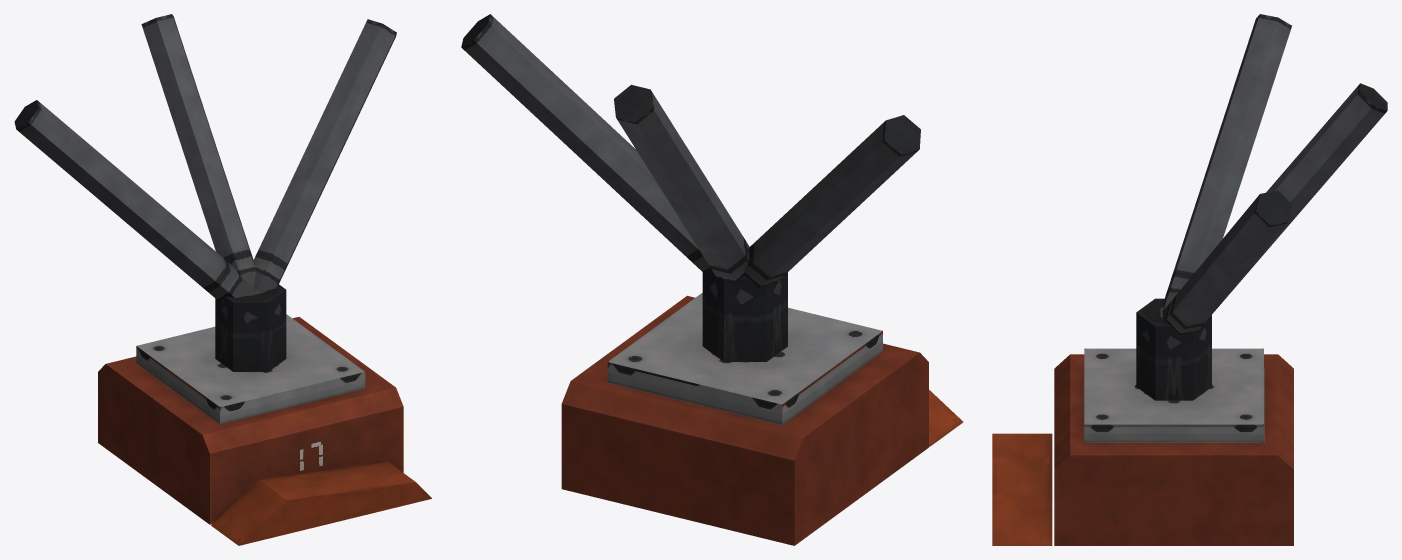
The model's file is dome_strut_anchor.glb.
The picture shows the model from 3 angles, left to right: view 1: azimuth 30°, elevation 25°; view 2: azimuth 150°, elevation 25°; view 3: azimuth 270°, elevation 25°; orthographic projection. The views are drawn at different scales.
Visible parts, largest first — view 1: dome_strut_anchor; view 2: dome_strut_anchor; view 3: dome_strut_anchor.
Part boxes in pixels (x1,y1,x2,y2): dome_strut_anchor: [14, 14, 431, 545]; dome_strut_anchor: [461, 14, 963, 545]; dome_strut_anchor: [992, 14, 1387, 545].
Size of the model in its own units: 2.35 by 2.25 by 1.98.
1 material, 1 textured.
